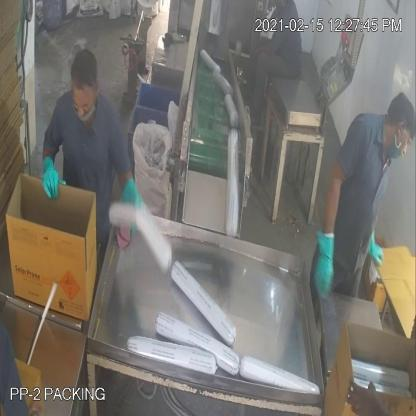glove: (315, 168, 346, 309), (114, 176, 152, 235), (34, 147, 66, 211), (364, 215, 386, 274)
